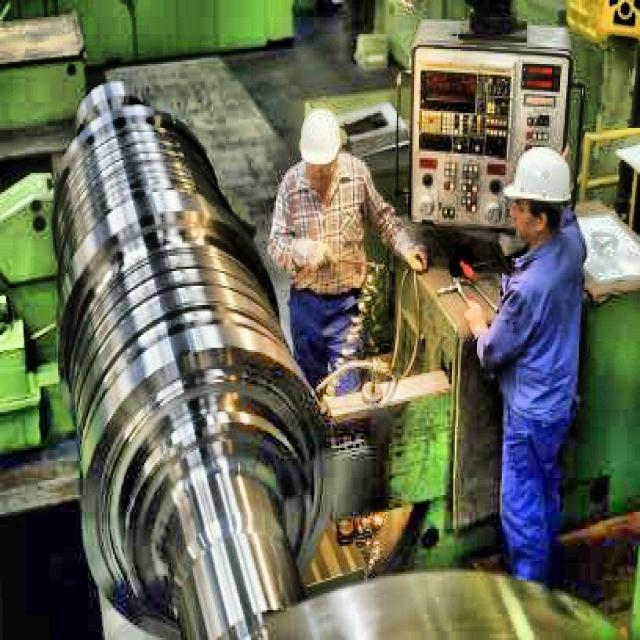helmet: (500, 137, 576, 246), (295, 102, 347, 188)
